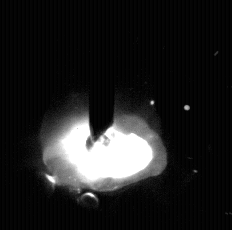arame: (90, 0, 115, 141)
poca: (41, 0, 166, 230)
